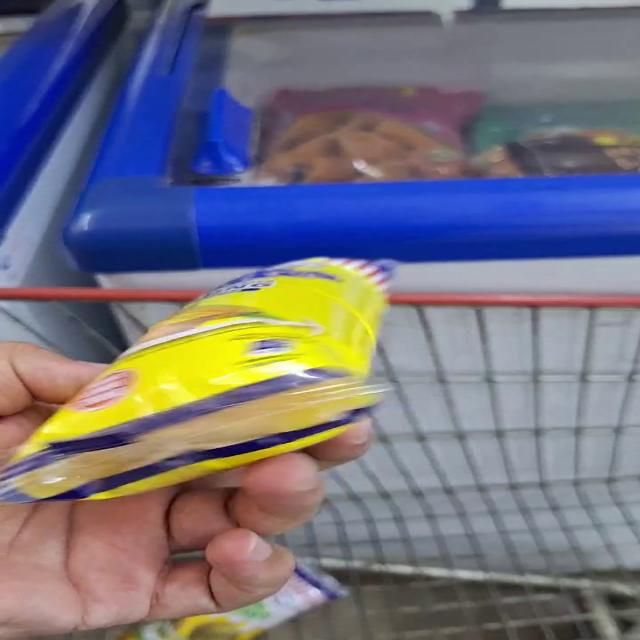Roti: (41, 272, 415, 486), (125, 574, 342, 640)
